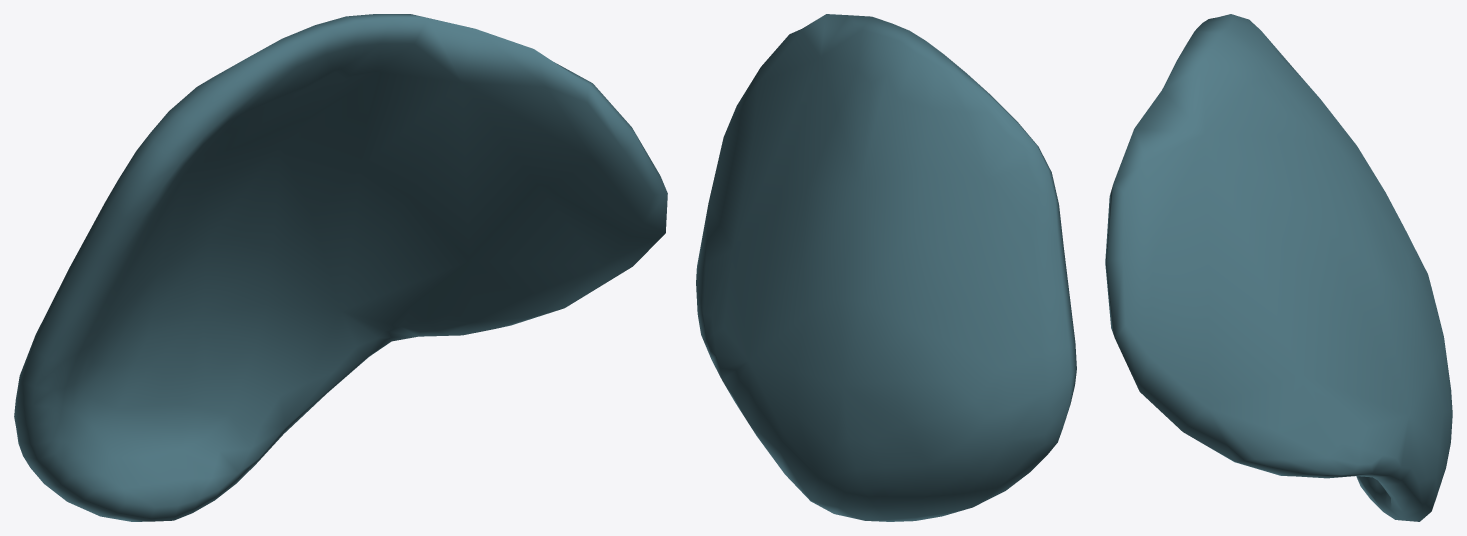
Rendered from Fibularis_brevis_5th_metatarsal_tuberosity_left.glb.
The picture shows the model from 3 angles, left to right: view 1: azimuth 30°, elevation 25°; view 2: azimuth 150°, elevation 25°; view 3: azimuth 270°, elevation 25°; orthographic projection. The views are drawn at different scales.
Visible parts, largest first — view 1: Fibularis_brevis_on_tuberosity_of_fifth_metatarsal_bone.l_Ge; view 2: Fibularis_brevis_on_tuberosity_of_fifth_metatarsal_bone.l_Ge; view 3: Fibularis_brevis_on_tuberosity_of_fifth_metatarsal_bone.l_Ge.
Boxes of the visible parts, left/top/right/bottom form: Fibularis_brevis_on_tuberosity_of_fifth_metatarsal_bone.l_Ge: left=14, top=14, right=667, bottom=521; Fibularis_brevis_on_tuberosity_of_fifth_metatarsal_bone.l_Ge: left=696, top=14, right=1076, bottom=521; Fibularis_brevis_on_tuberosity_of_fifth_metatarsal_bone.l_Ge: left=1105, top=14, right=1452, bottom=521.
Bounding box in the file's own units: 0.00628 × 0.00595 × 0.0037.
